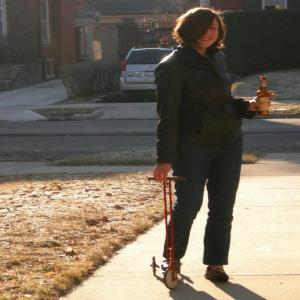Vehicle-registration-plate: (146, 72, 155, 78)
